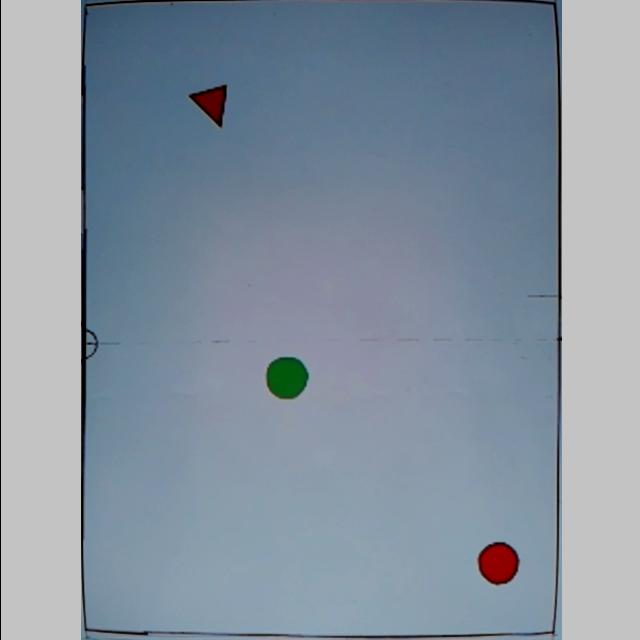greenCircle: (262, 354, 306, 402)
redCircle: (472, 540, 518, 586)
redTriangle: (183, 81, 224, 127)
